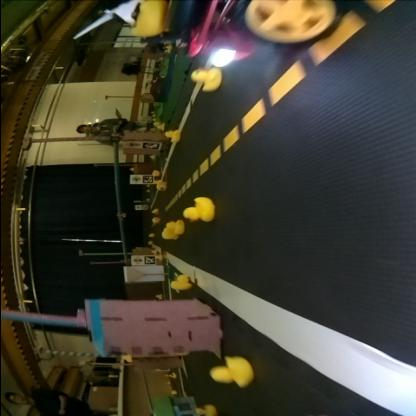Duckie: (208, 358, 252, 388), (182, 198, 212, 223), (189, 68, 217, 91), (169, 276, 190, 290), (166, 221, 182, 234), (194, 405, 213, 414), (164, 131, 178, 143), (160, 231, 174, 240), (156, 182, 164, 191), (150, 209, 158, 215), (154, 296, 161, 301), (150, 220, 158, 224), (168, 373, 174, 378)
Duckiebot: (166, 1, 340, 67)
Intersection sign: (124, 142, 138, 148), (129, 178, 139, 184)
QR code: (142, 142, 158, 151), (140, 176, 152, 184), (143, 258, 153, 264)
Signal sign: (130, 257, 142, 265)
